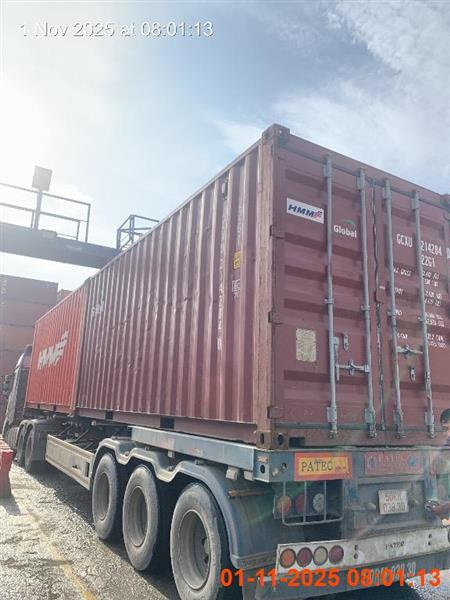broken: (0, 124, 449, 599)
